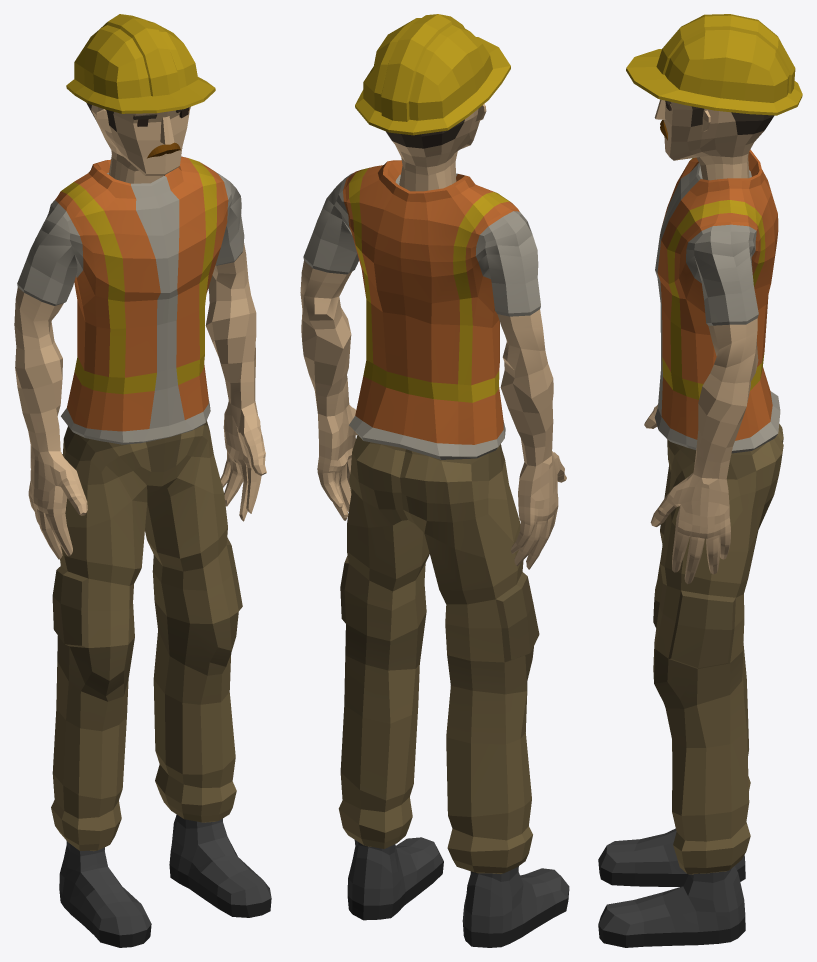
The model's file is worker.glb.
The picture shows the model from 3 angles, left to right: view 1: azimuth 30°, elevation 25°; view 2: azimuth 150°, elevation 25°; view 3: azimuth 270°, elevation 25°; orthographic projection. The views are drawn at different scales.
Visible parts, largest first — view 1: Worker_Body, Worker_Legs, Worker_Head, Worker_Feet; view 2: Worker_Legs, Worker_Body, Worker_Head, Worker_Feet; view 3: Worker_Body, Worker_Legs, Worker_Head, Worker_Feet.
Boxes of the visible parts, left/top/right/bottom form: Worker_Body: left=14, top=156, right=266, bottom=559; Worker_Legs: left=51, top=420, right=242, bottom=851; Worker_Head: left=66, top=14, right=215, bottom=183; Worker_Feet: left=59, top=814, right=271, bottom=947; Worker_Legs: left=338, top=435, right=539, bottom=873; Worker_Body: left=300, top=160, right=566, bottom=569; Worker_Head: left=355, top=14, right=510, bottom=191; Worker_Feet: left=347, top=837, right=569, bottom=947; Worker_Body: left=644, top=149, right=780, bottom=584; Worker_Legs: left=653, top=424, right=783, bottom=874; Worker_Head: left=626, top=14, right=802, bottom=180; Worker_Feet: left=598, top=828, right=745, bottom=947.
Size of the model in its own units: 0.5283 by 1.86 by 0.3864.
